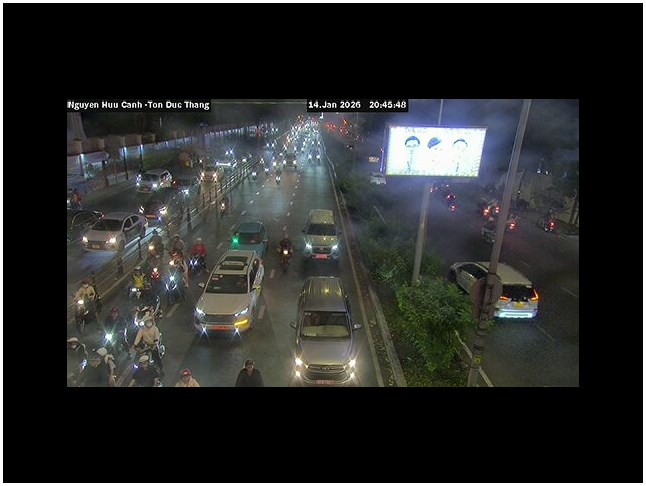bus: (301, 208, 342, 263)
car: (290, 275, 358, 383), (194, 252, 267, 337), (450, 259, 542, 321), (128, 264, 188, 318), (81, 217, 126, 252), (229, 220, 268, 260)
